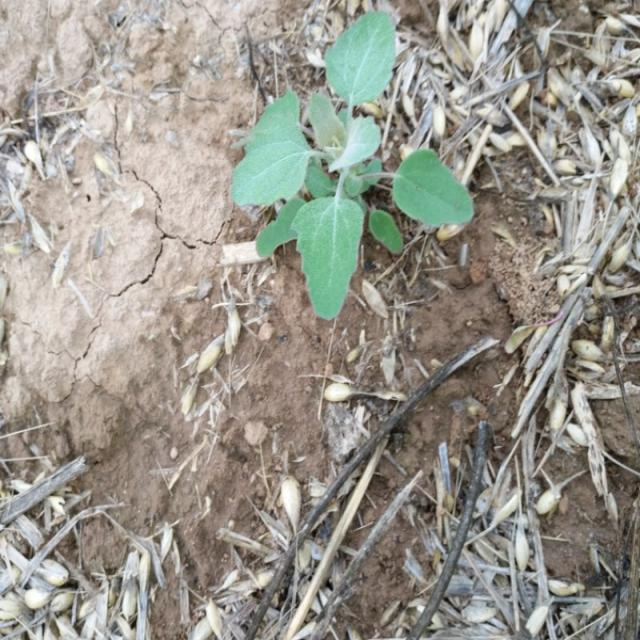goosefoots: (228, 13, 458, 314)
